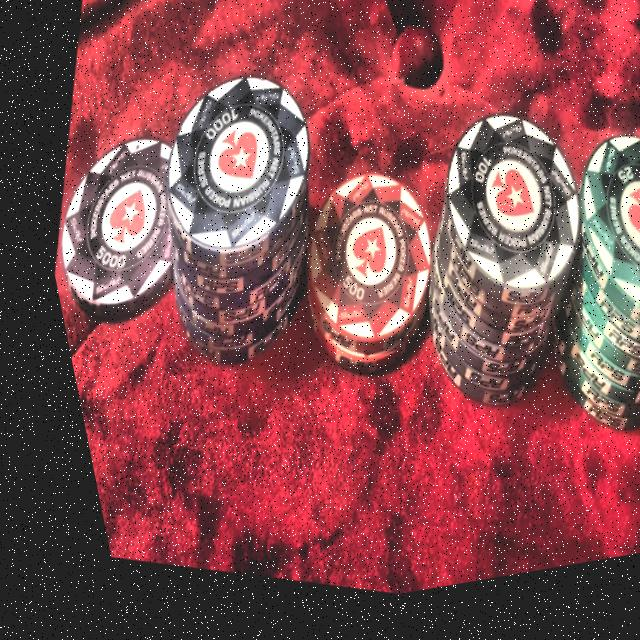Chip: (345, 76, 635, 453), (85, 47, 365, 405), (246, 157, 463, 416), (483, 131, 640, 487), (19, 100, 216, 355)
